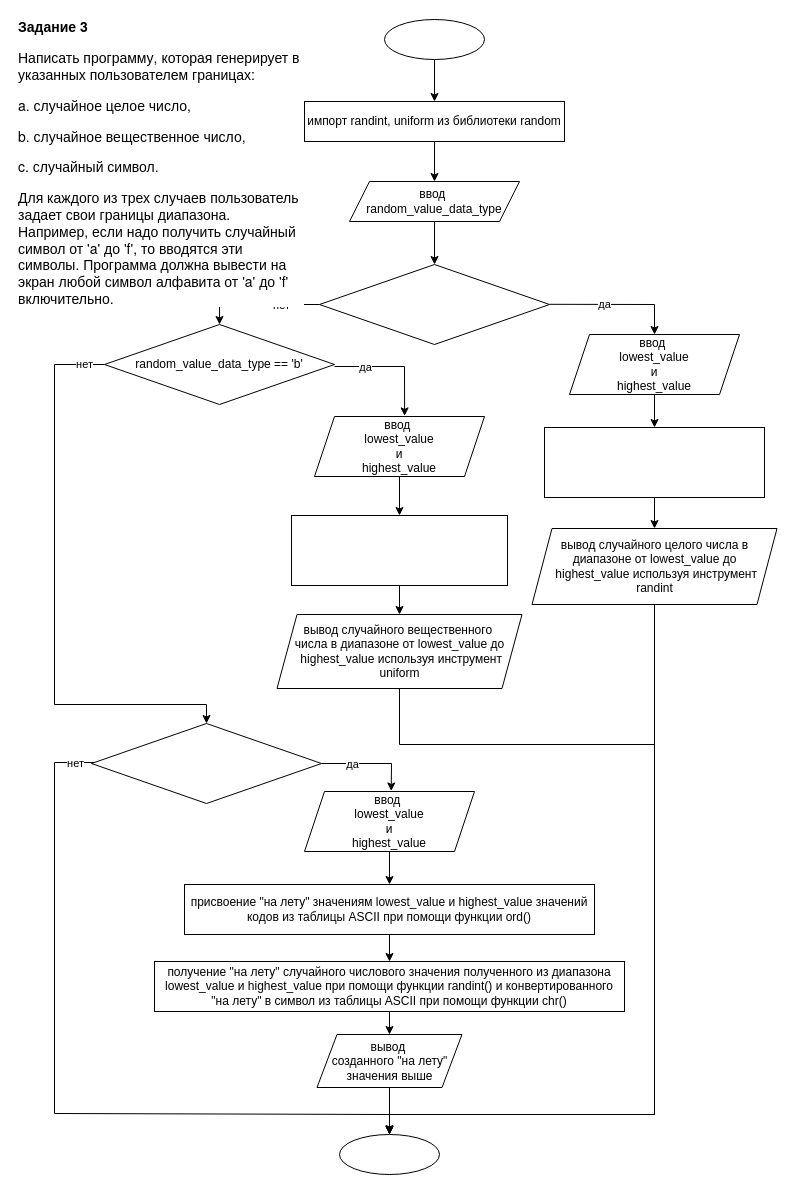
Some shapes in this 795 by 1192 pixel diagram are drawn without their labels. Here are the shapes that lost their labels. From the top down, the centre of each, then its label:
pixel 434 39: начало
pixel 434 304: random_value_data_type == 'a'
pixel 654 462: перевод lowest_value и highest_value в тип данных int
pixel 399 550: перевод lowest_value и highest_value в тип данных float
pixel 206 763: random_value_data_type == 'c'
pixel 389 1154: конец
